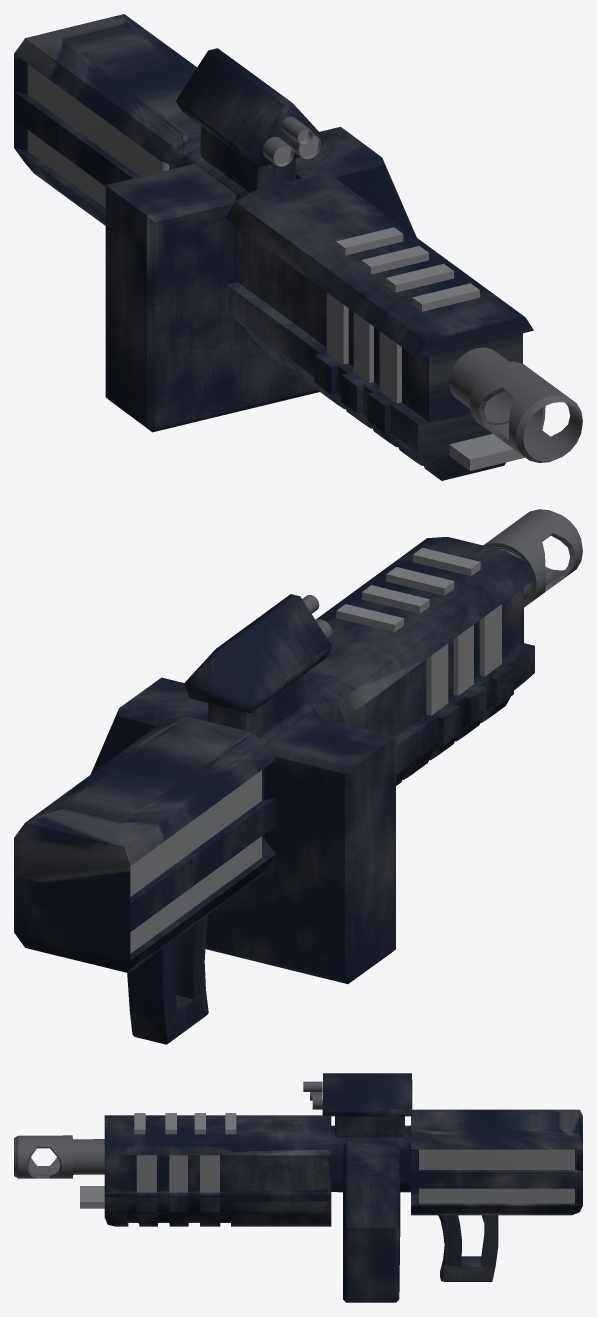
Rendered from Rifle.fbx.
3 renders of one model, top to bottom at view 1: azimuth 30°, elevation 25°; view 2: azimuth 150°, elevation 25°; view 3: azimuth 270°, elevation 25°, orthographic. The views are drawn at different scales.
Visible parts, largest first — view 1: RifleBody, Magazine, Aim, Barrel, FrontLenz1; view 2: RifleBody, Magazine, Aim, Handle, Barrel; view 3: RifleBody, Magazine, Aim, Barrel, Handle.
Boxes of the visible parts, bbox=[...] form: RifleBody: bbox=[14, 14, 533, 480]; Magazine: bbox=[105, 126, 416, 432]; Aim: bbox=[176, 48, 324, 192]; Barrel: bbox=[448, 347, 582, 462]; FrontLenz1: bbox=[262, 136, 294, 166]; RifleBody: bbox=[14, 537, 534, 972]; Magazine: bbox=[90, 677, 395, 983]; Aim: bbox=[184, 594, 331, 737]; Handle: bbox=[127, 915, 208, 1044]; Barrel: bbox=[483, 509, 582, 607]; RifleBody: bbox=[80, 1109, 582, 1226]; Magazine: bbox=[343, 1140, 400, 1302]; Aim: bbox=[322, 1073, 412, 1137]; Barrel: bbox=[14, 1135, 104, 1178]; Handle: bbox=[438, 1215, 498, 1281].
Size of the model in its own units: 0.0327 by 0.0396 by 0.1007.
1 material, 1 textured.
